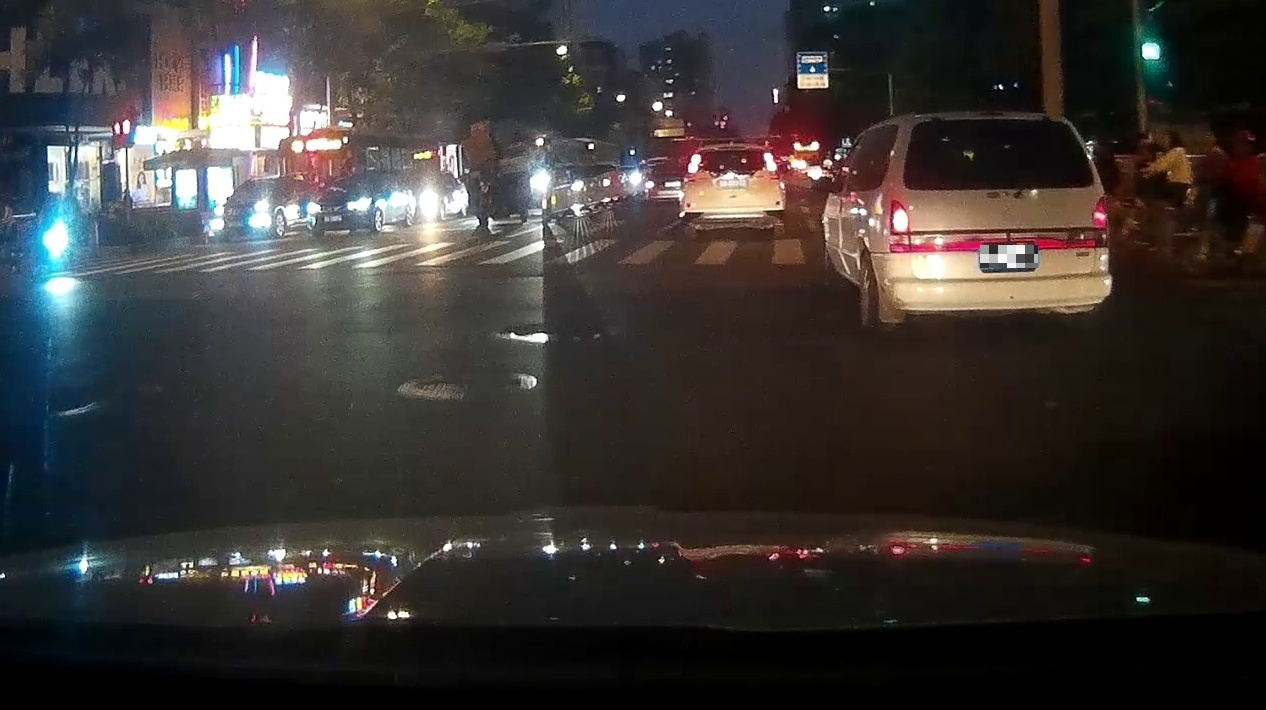L_light: (889, 200, 910, 253), (686, 153, 702, 178)
R_light: (1093, 196, 1112, 248), (762, 152, 778, 171)
T_light: (978, 113, 1006, 119), (727, 145, 745, 149)
night-left: (887, 113, 1112, 326)
night-no: (680, 144, 785, 236)
plate_1: (980, 245, 1038, 268)
